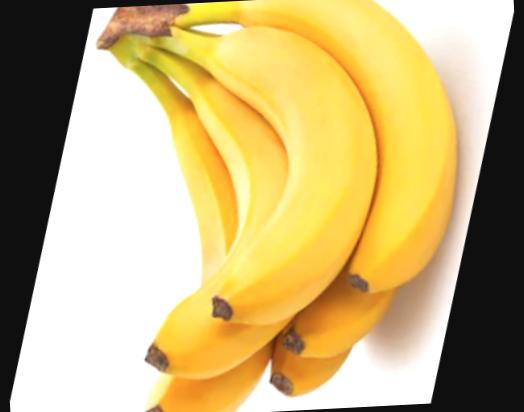Banana Ripe: (35, 0, 487, 412)
